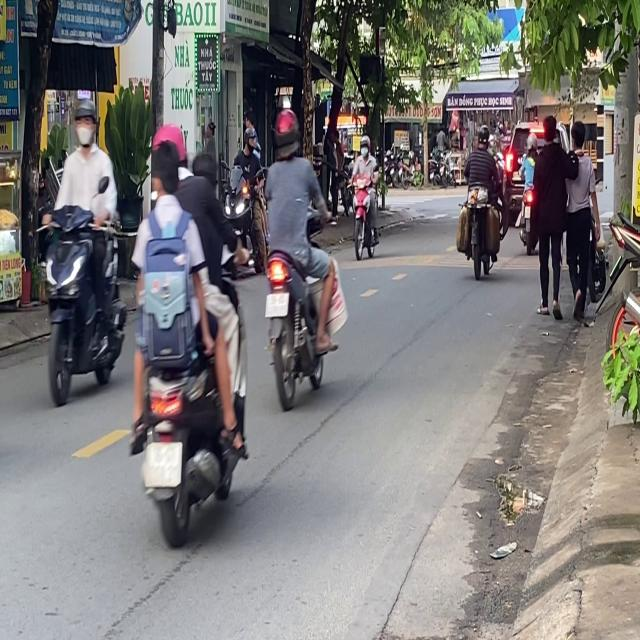helmet: (150, 122, 187, 164), (272, 107, 300, 158), (72, 98, 98, 150)
licenseplate: (124, 118, 253, 549), (39, 96, 128, 404), (258, 103, 346, 408)
motorcyclist: (147, 140, 183, 204)
nohelmet: (143, 442, 181, 487), (265, 292, 288, 315)
